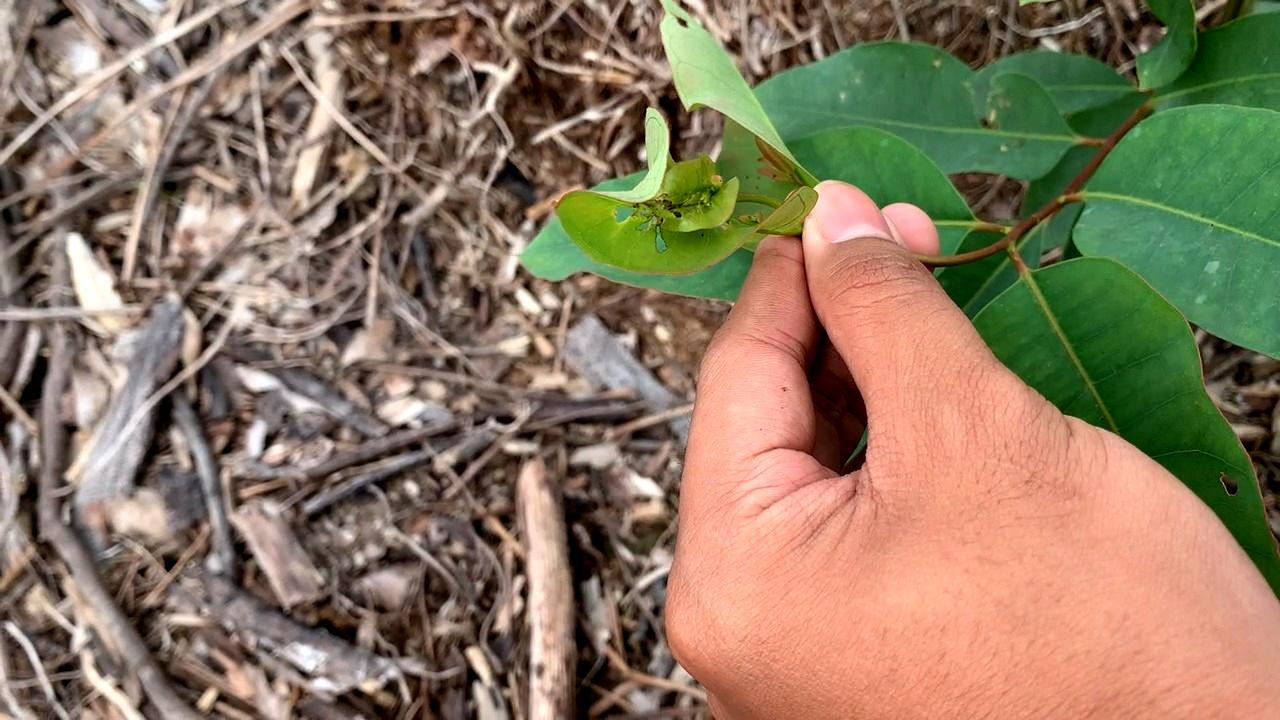Leaf Roller - Leaf: (546, 107, 840, 293)
